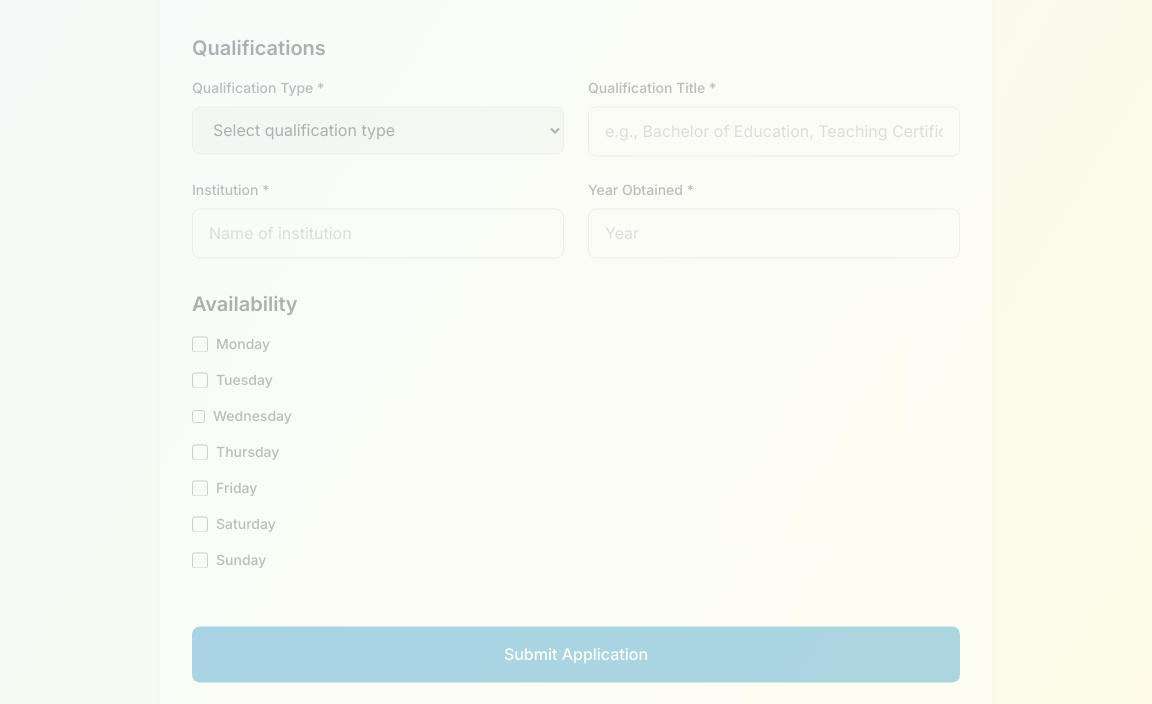
Tutor Signup Form - Component Tests › User Interactions › should show hours input when day availability is checked
(page scrolled)
Click the checkbox labelled "monday" at [200, 344], box [192, 336, 208, 352]
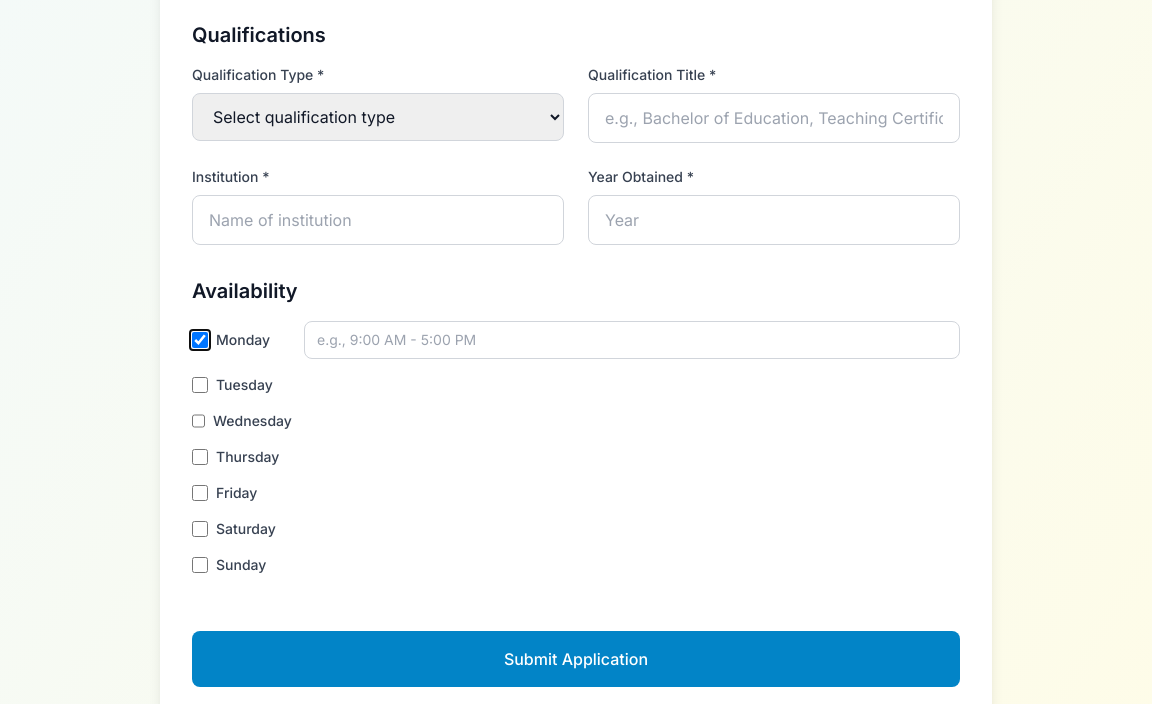
Now the field with placeholder "e.g., 9:00 AM - 5:00 PM" is shown, box [304, 321, 960, 359]
